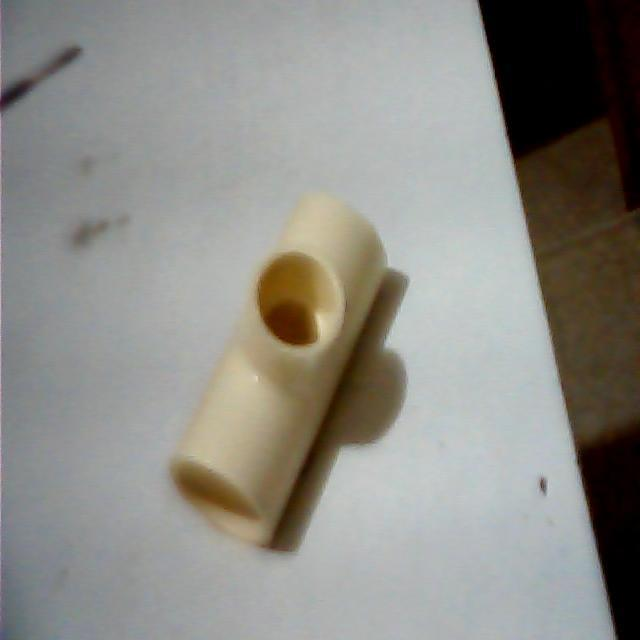T Joint: (168, 193, 398, 552)
